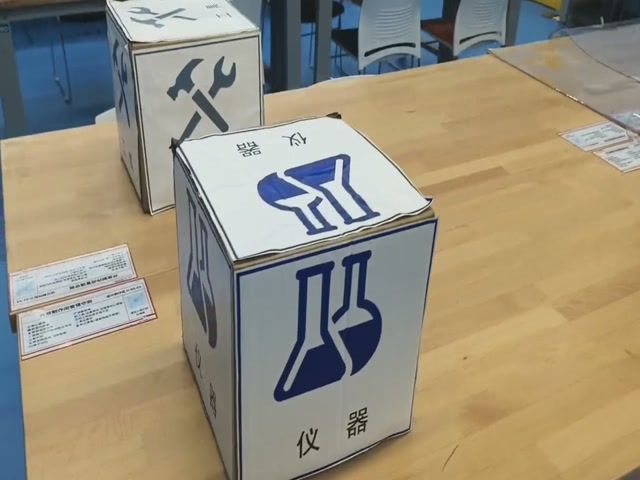Cube_ins: (173, 117, 436, 271)
Cube_tool: (107, 0, 259, 57)
